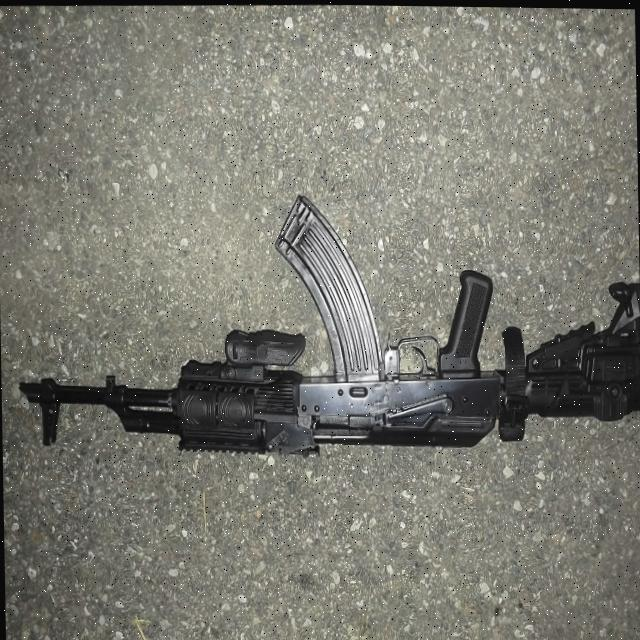firearm: (14, 186, 640, 468)
